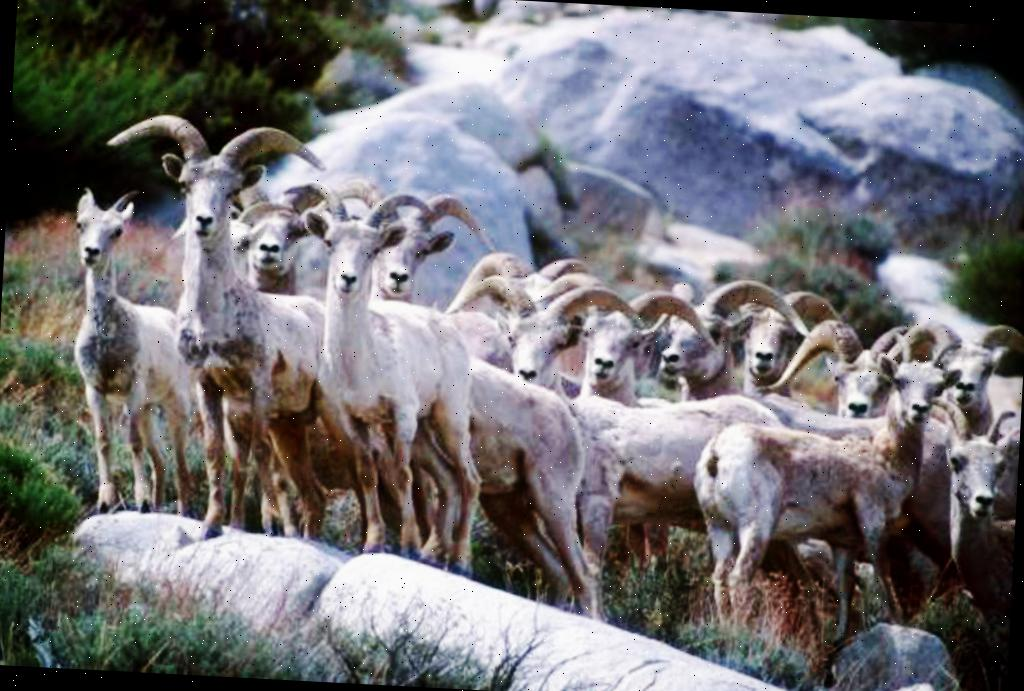Sheep: (78, 111, 372, 574), (512, 288, 801, 596), (685, 344, 951, 652), (392, 262, 622, 613), (298, 185, 489, 568), (54, 181, 216, 522), (356, 186, 494, 555), (476, 284, 616, 594), (914, 389, 1022, 653), (704, 279, 856, 403), (726, 278, 842, 428), (644, 291, 770, 404), (436, 249, 554, 368), (560, 296, 680, 406), (222, 183, 336, 296), (916, 323, 1024, 440), (866, 343, 968, 427), (820, 338, 914, 421)
